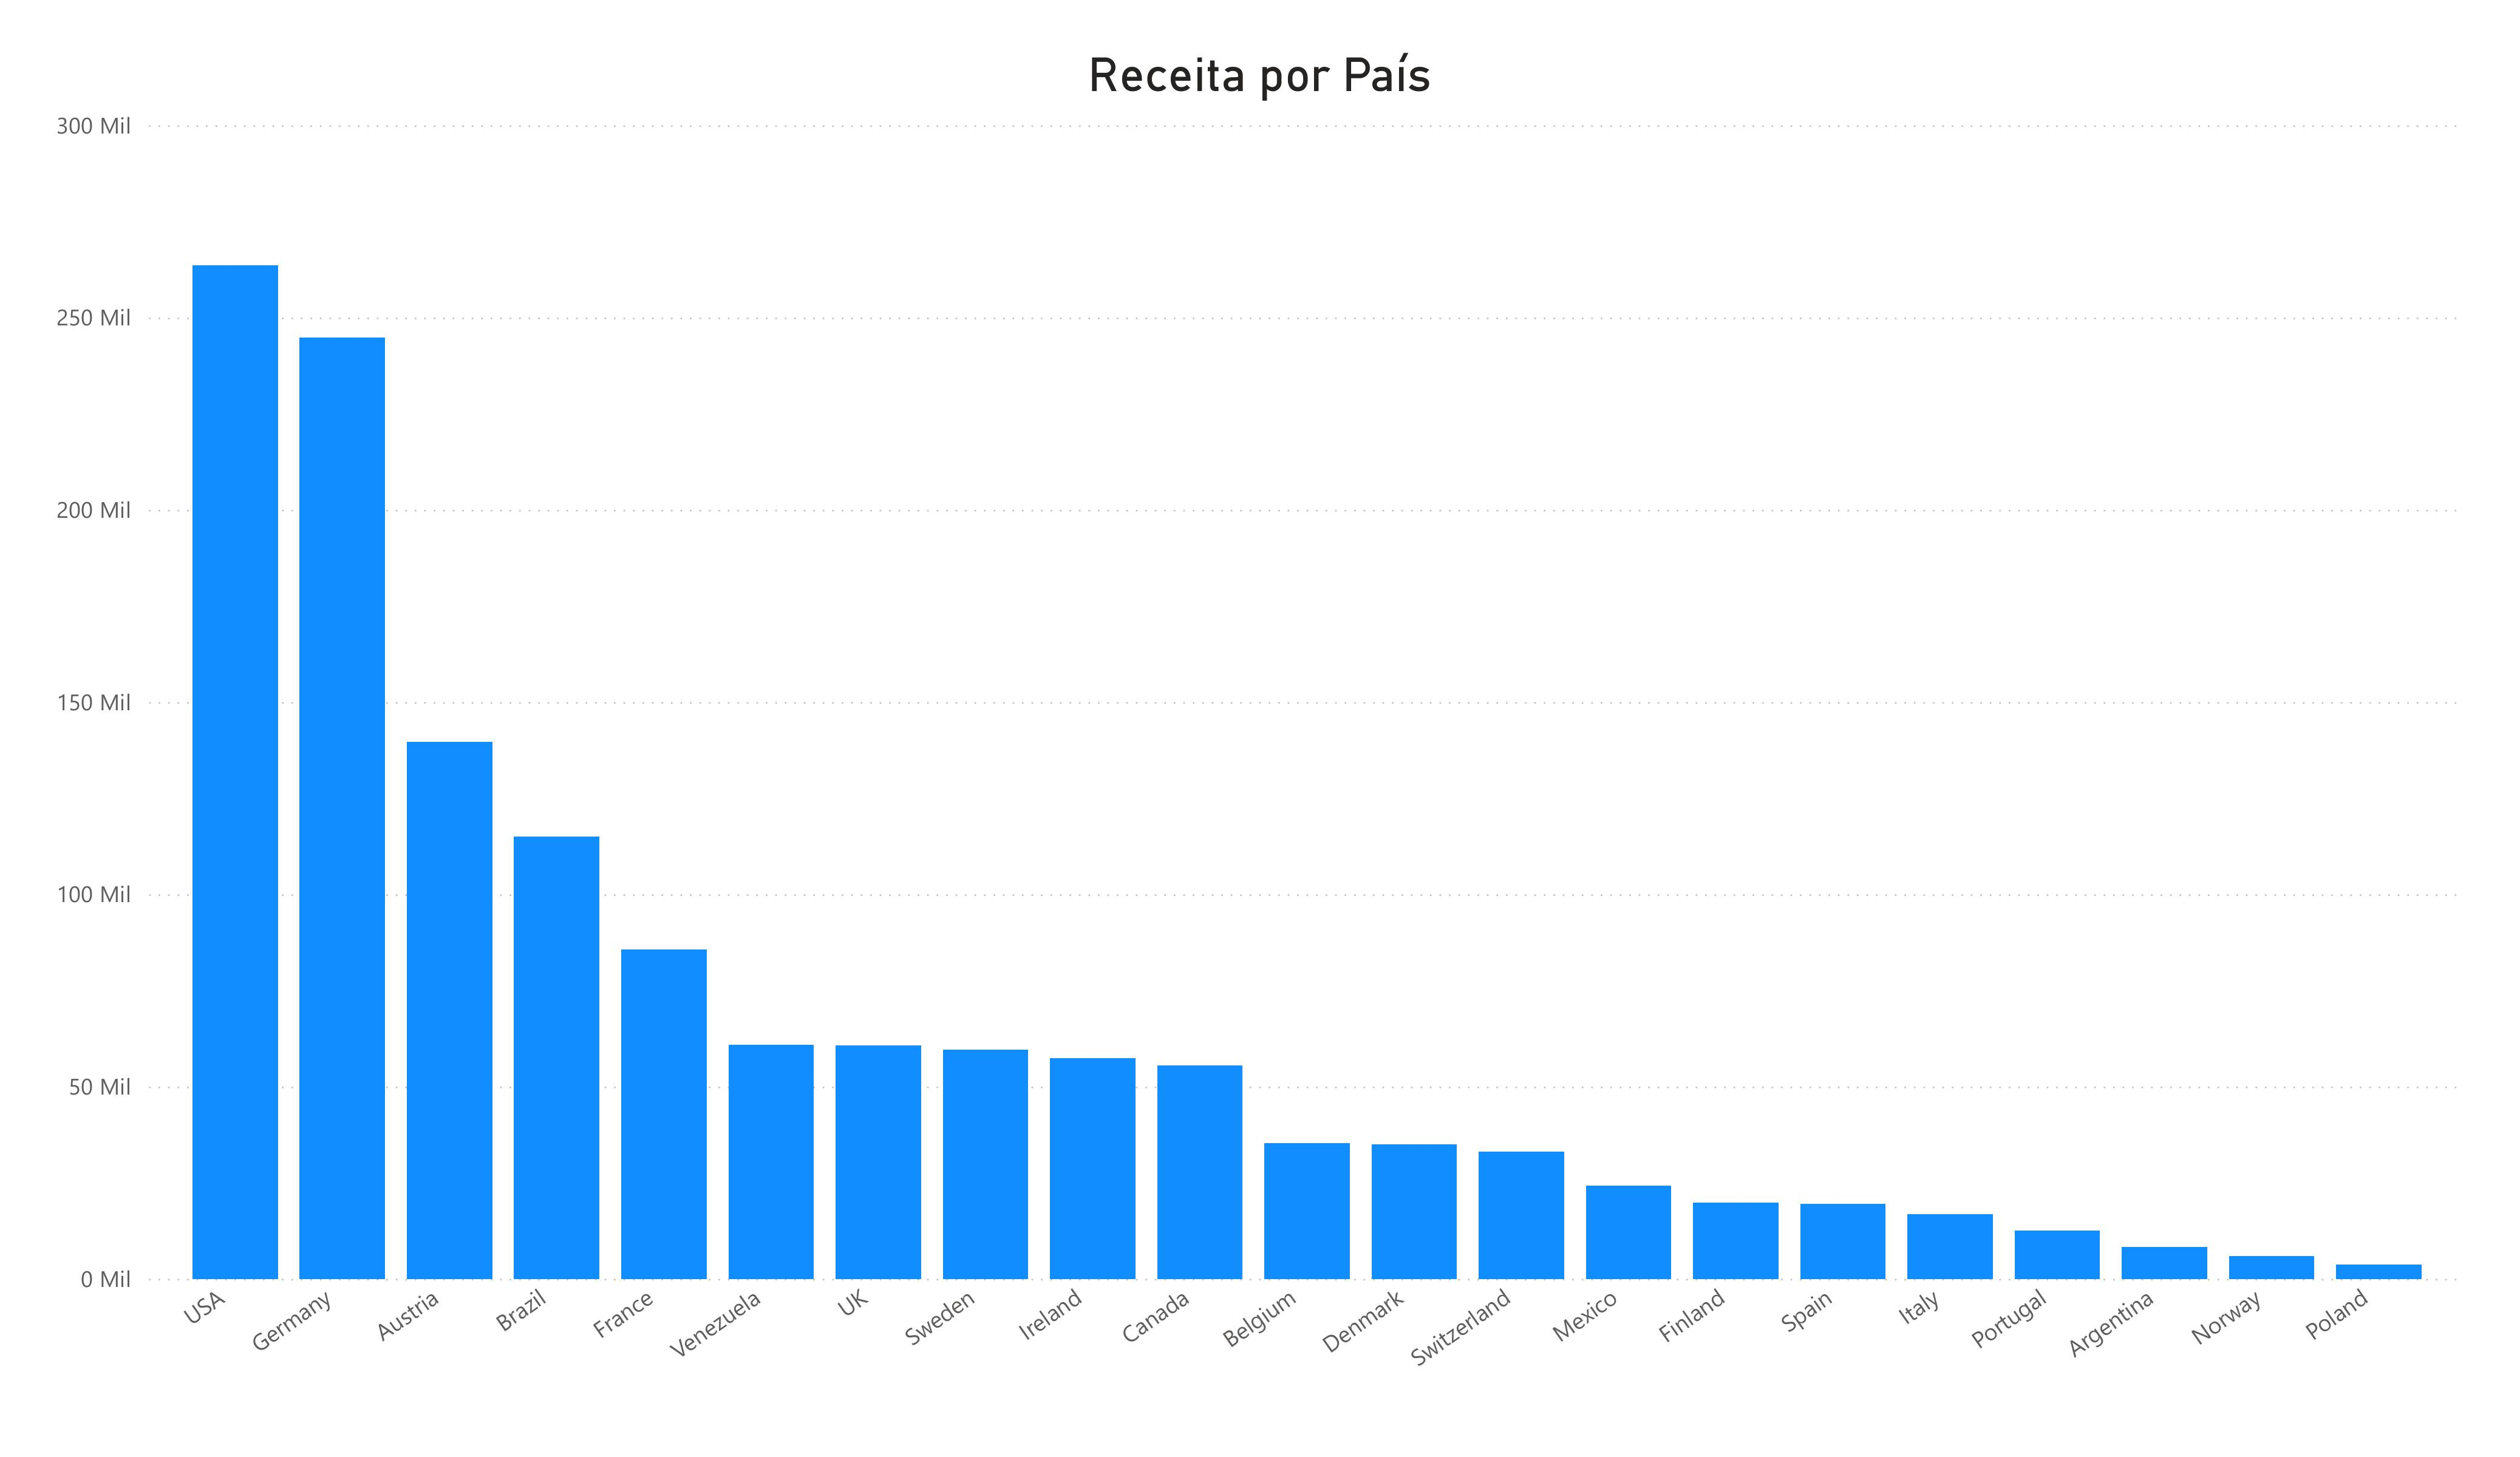

What the dashboard file says about the page in this screenshot:
{"tool":"powerbi","page":{"name":"Página 2","canvas":[1280,720],"ordinal":1},"visuals":[{"type":"columnChart","title":"Receita por País","fields":{"Category":["dim_customer.Country"],"Y":["Sum(fact_vendas.Receita)"]},"box":[0,0,1280.2,719.8],"z":0}]}

Visuals, with their boxes on the page's 1280x720 design canvas (x1, y1, x2, y2). These are canvas units, not pixel positions in the 2520x1457 screenshot, which may show the page scaled, cropped or inside an application window:
"Receita por País" columnChart: box=[0, 0, 1280, 720]
